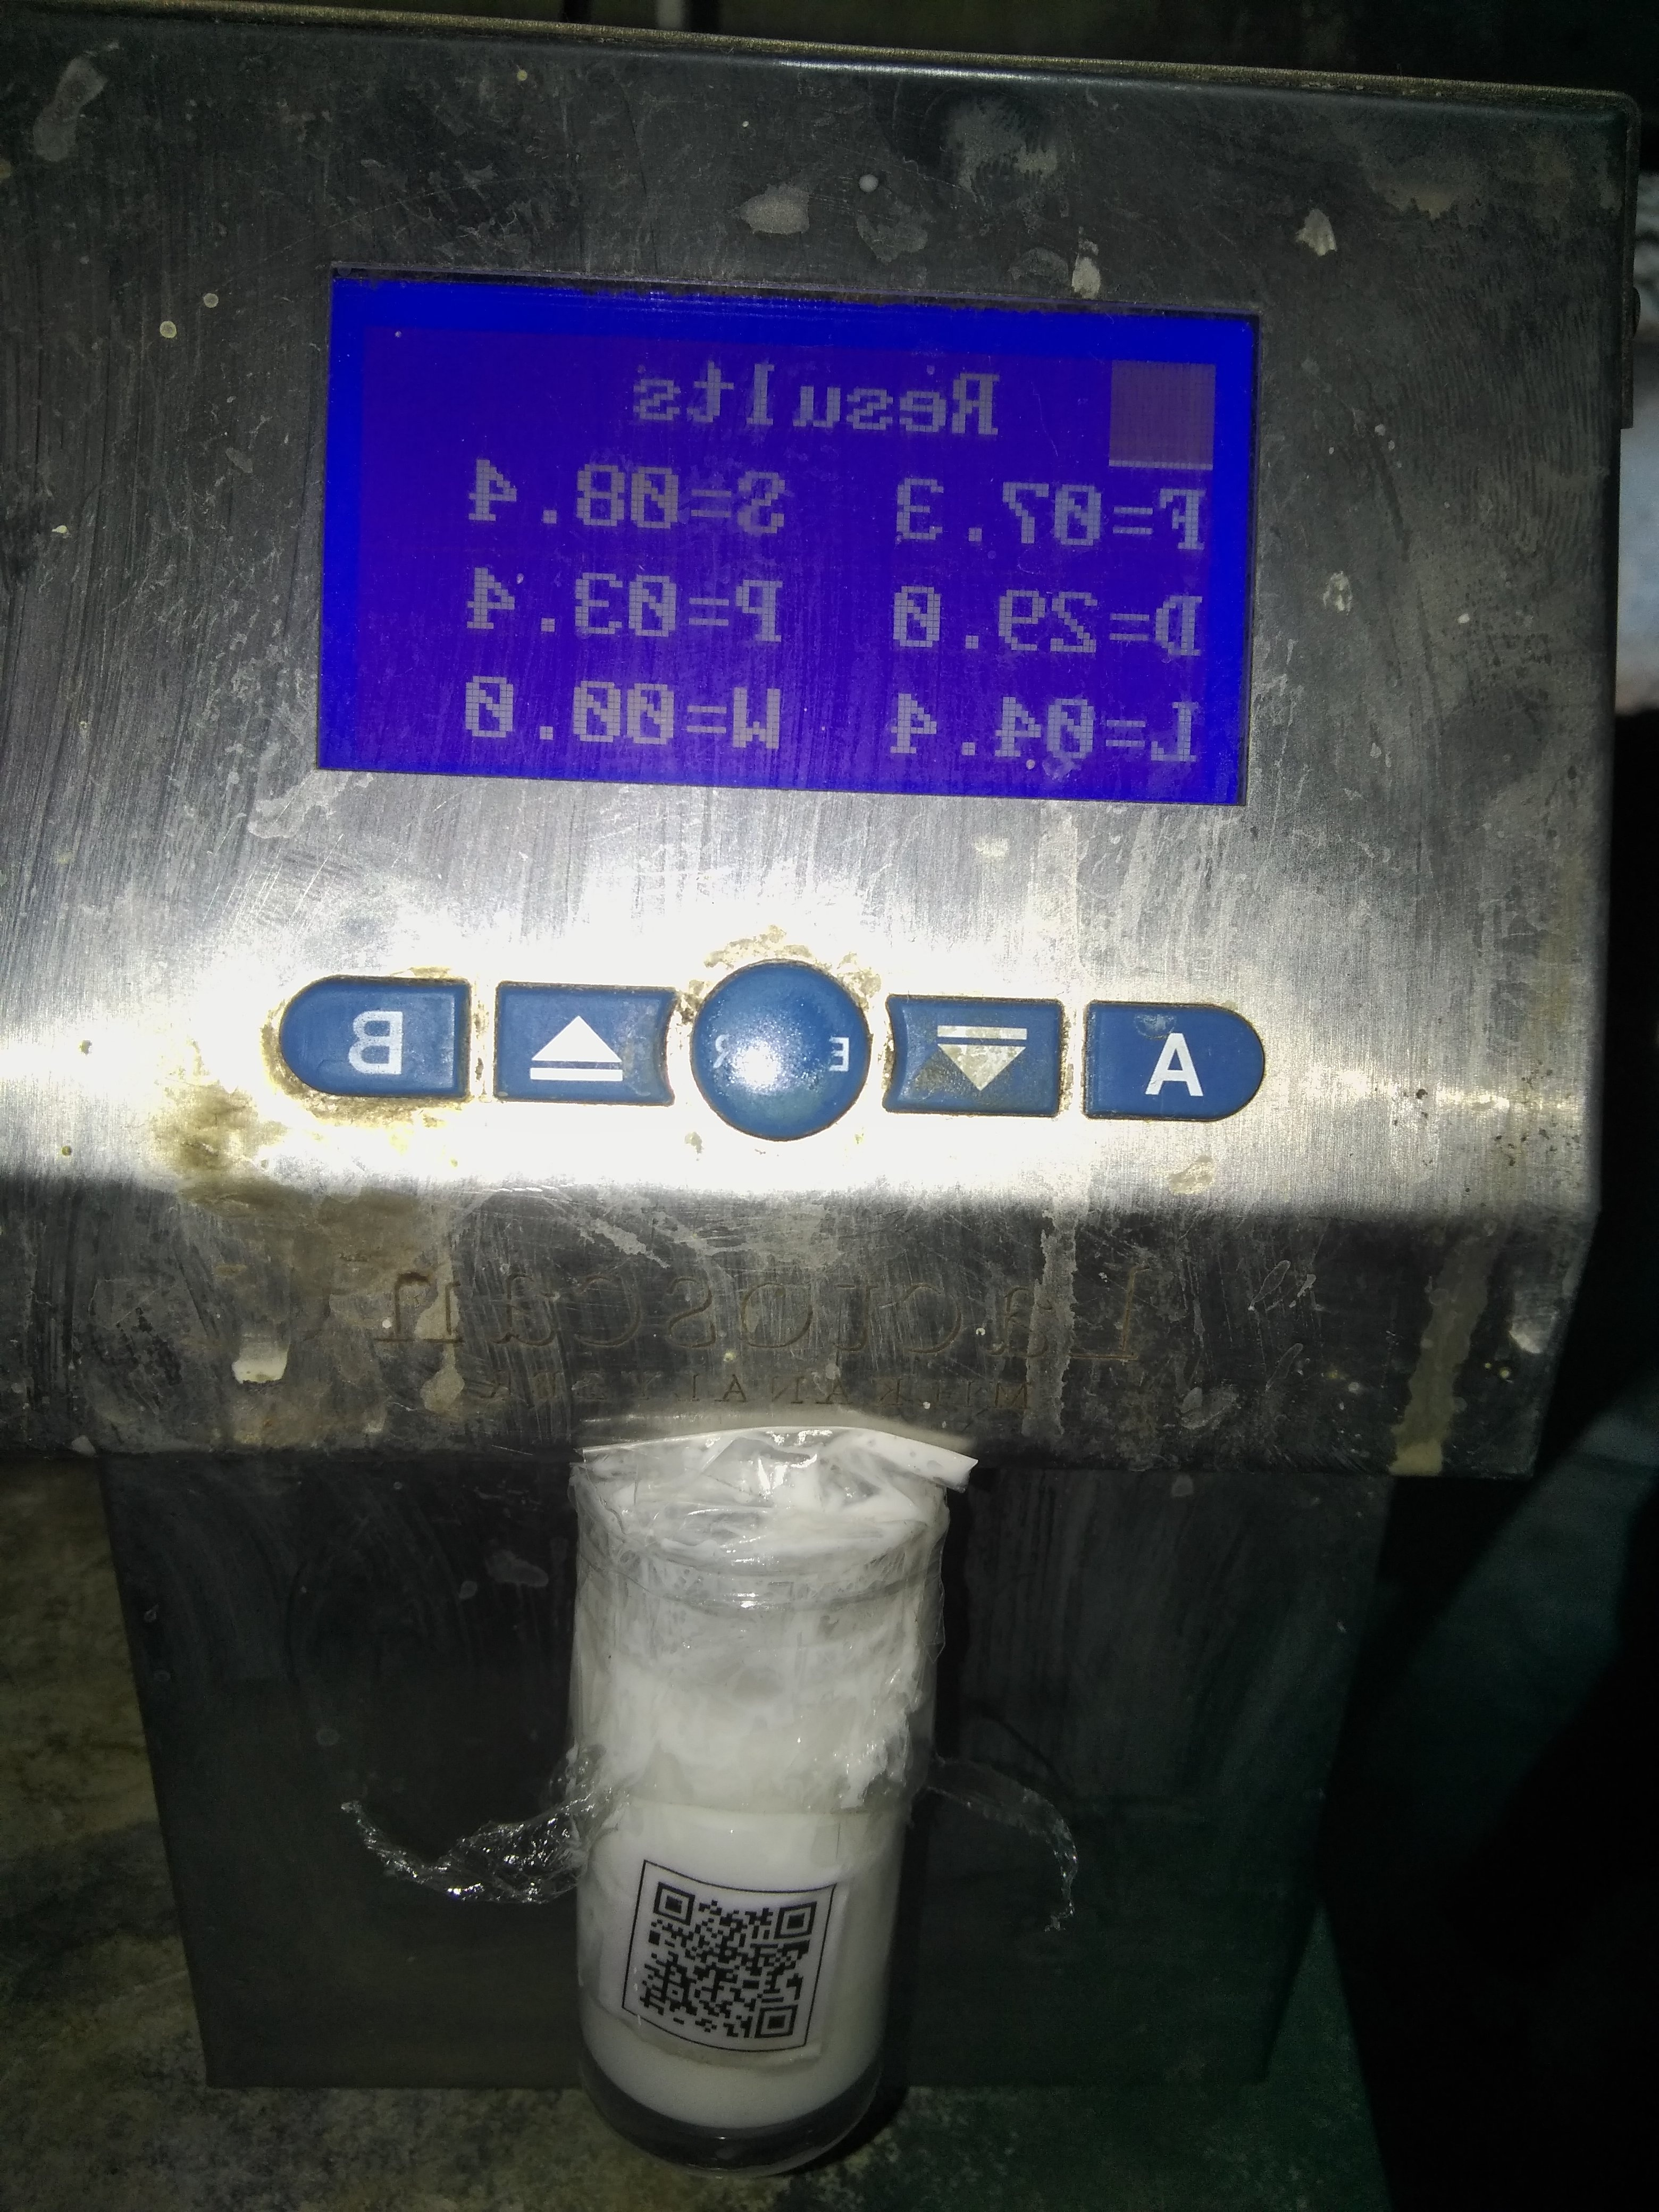lcd: (594, 1862, 866, 2092)
qr: (303, 219, 1316, 897)
